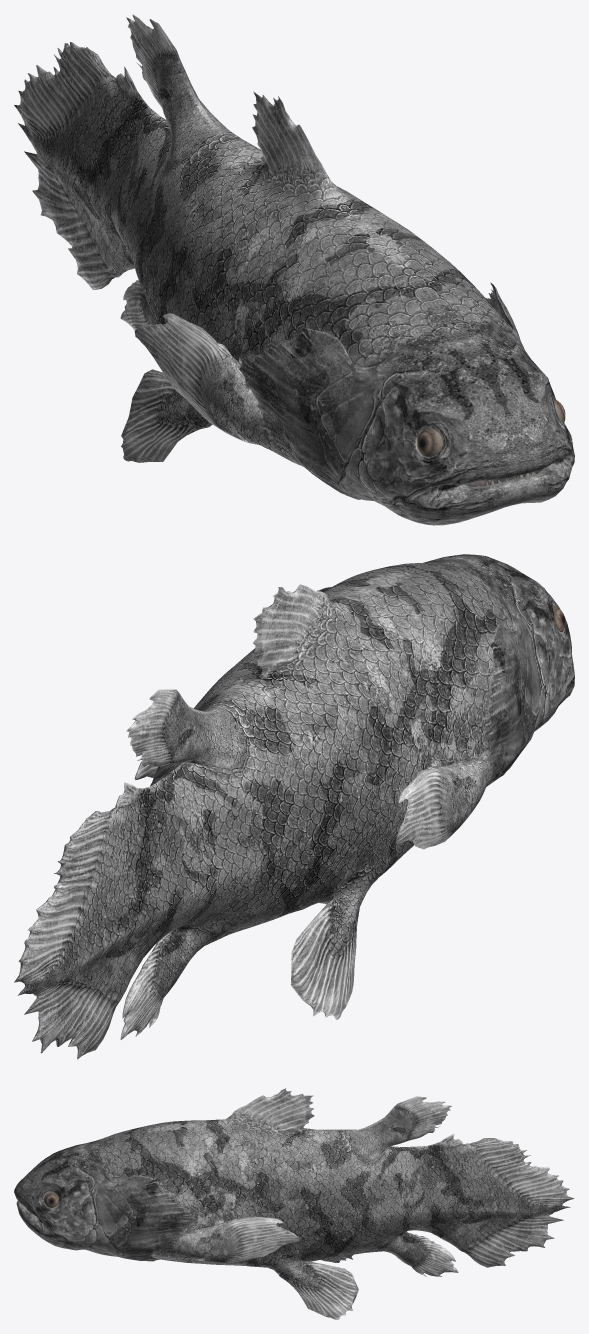
Rendered from coelacanth.glb.
The picture shows the model from 3 angles, top to bottom: view 1: azimuth 30°, elevation 25°; view 2: azimuth 150°, elevation 25°; view 3: azimuth 270°, elevation 25°; orthographic projection. The views are drawn at different scales.
Parts seen in each view (by area): view 1: Object_46; view 2: Object_46; view 3: Object_46.
Part boxes in pixels (<box>): Object_46: <box>14,14,574,525</box>; Object_46: <box>14,554,574,1059</box>; Object_46: <box>14,1088,574,1319</box>.
Size of the model in its own units: 0.5924 by 0.7996 by 2.
Materials: 1 (1 with a texture image).
